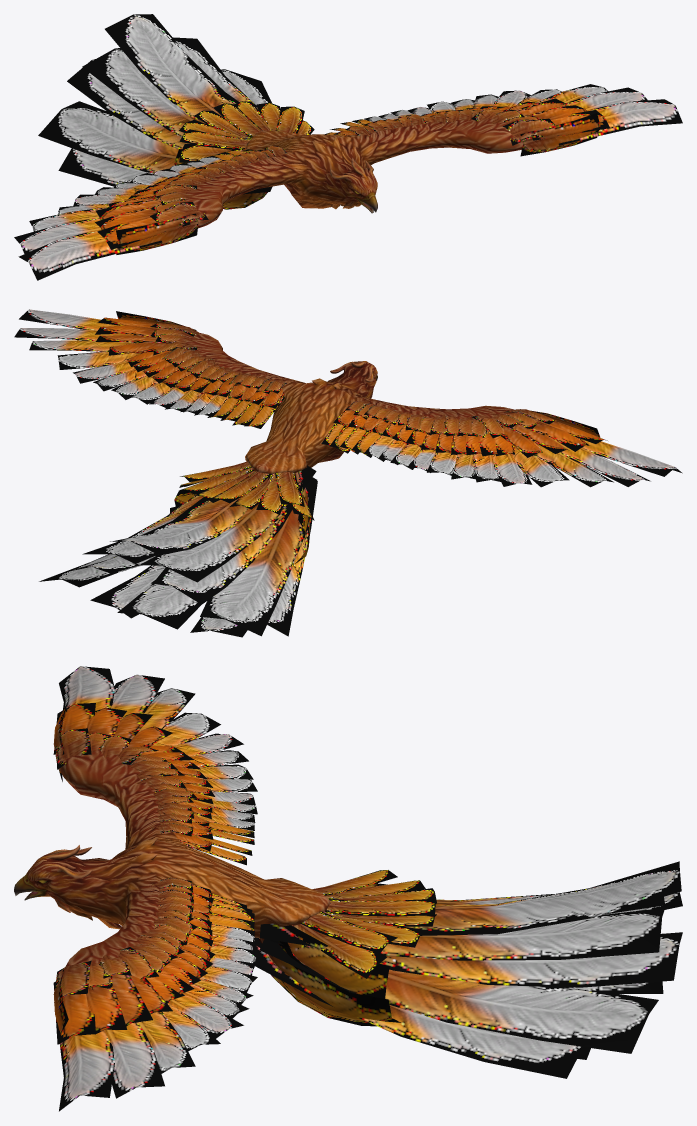
The model's file is 103-phoenix.glb.
The picture shows the model from 3 angles, top to bottom: view 1: azimuth 30°, elevation 25°; view 2: azimuth 150°, elevation 25°; view 3: azimuth 270°, elevation 25°; orthographic projection. The views are drawn at different scales.
Bounding box in the file's own units: 9.16 × 1.68 × 6.03.
1 material, 1 textured.
